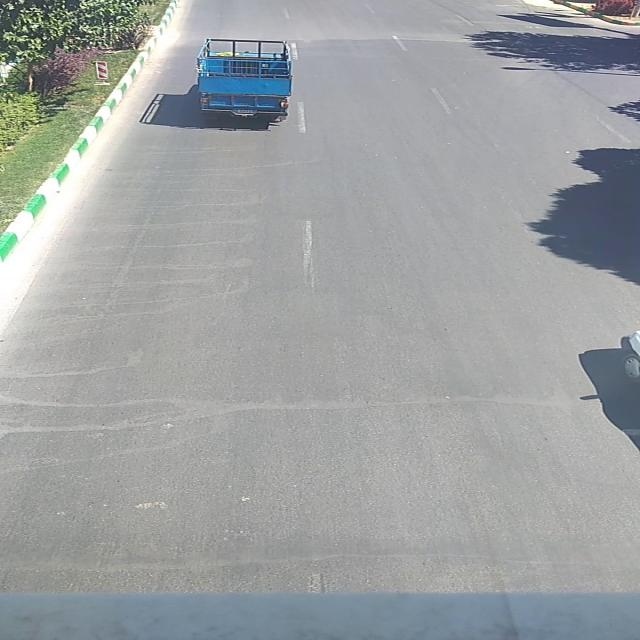car: (194, 41, 295, 119)
